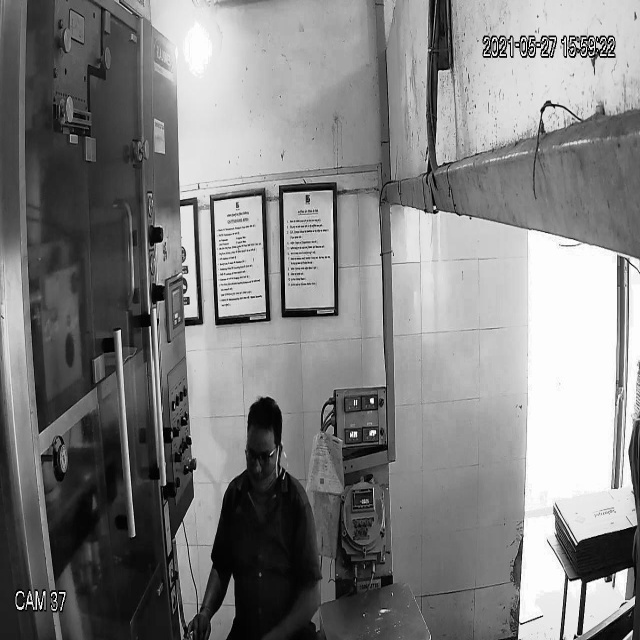Gafas: (239, 430, 287, 475)
